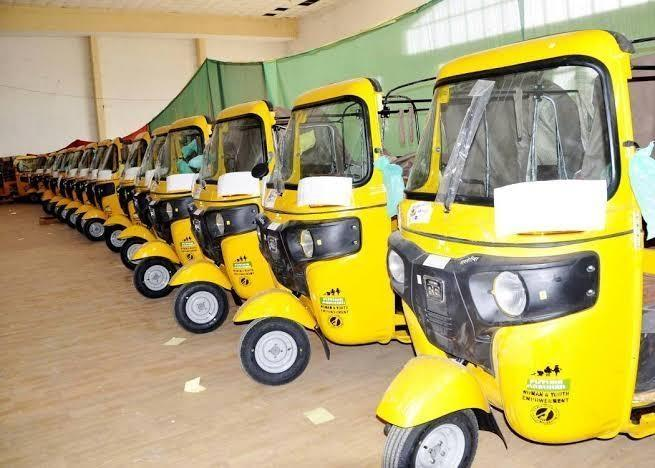keke: (387, 26, 655, 468), (234, 75, 384, 388)
